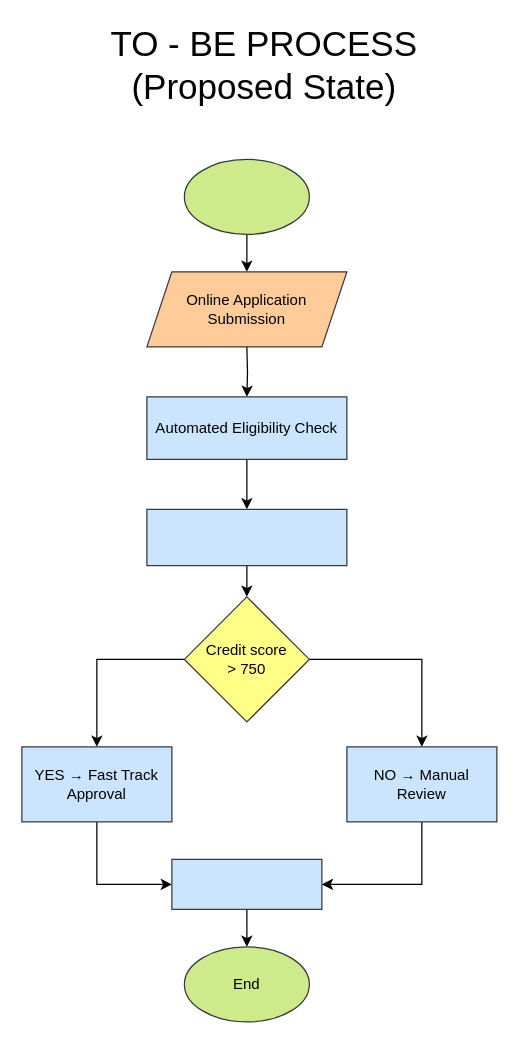
This 519x1044 diagram has some shape labels left out. The shapes that lost their labels are listed below. From the top down, each one's box as (x1, y1, x2, y2) in pixels, then its label:
(183, 158, 309, 234): Start
(146, 508, 347, 566): Credit Score Auto Integration
(171, 858, 322, 909): Final Decision
